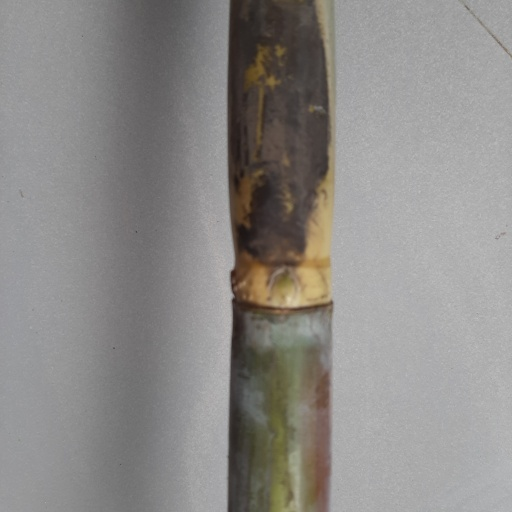Bud: (263, 270, 304, 313)
